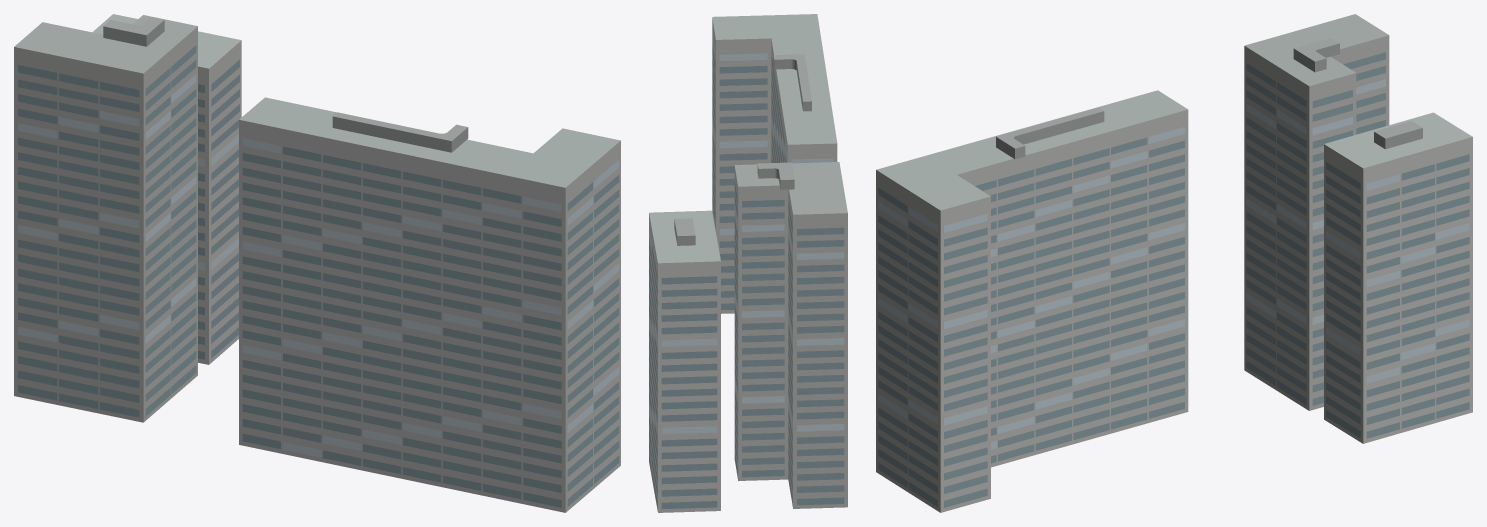
The model's file is apt-a15283803.glb.
3 views of the same model, side by side, from view 1: azimuth 30°, elevation 25°; view 2: azimuth 150°, elevation 25°; view 3: azimuth 270°, elevation 25° (orthographic). The views are drawn at different scales.
Visible parts, largest first — view 1: apt-a15283803; view 2: apt-a15283803; view 3: apt-a15283803.
Boxes of the visible parts, box(x1,y1,x2,y2) form: apt-a15283803: box(14, 14, 620, 512); apt-a15283803: box(649, 14, 847, 512); apt-a15283803: box(876, 14, 1472, 512).
Bounding box in the file's own units: 83.54 × 75 × 121.
